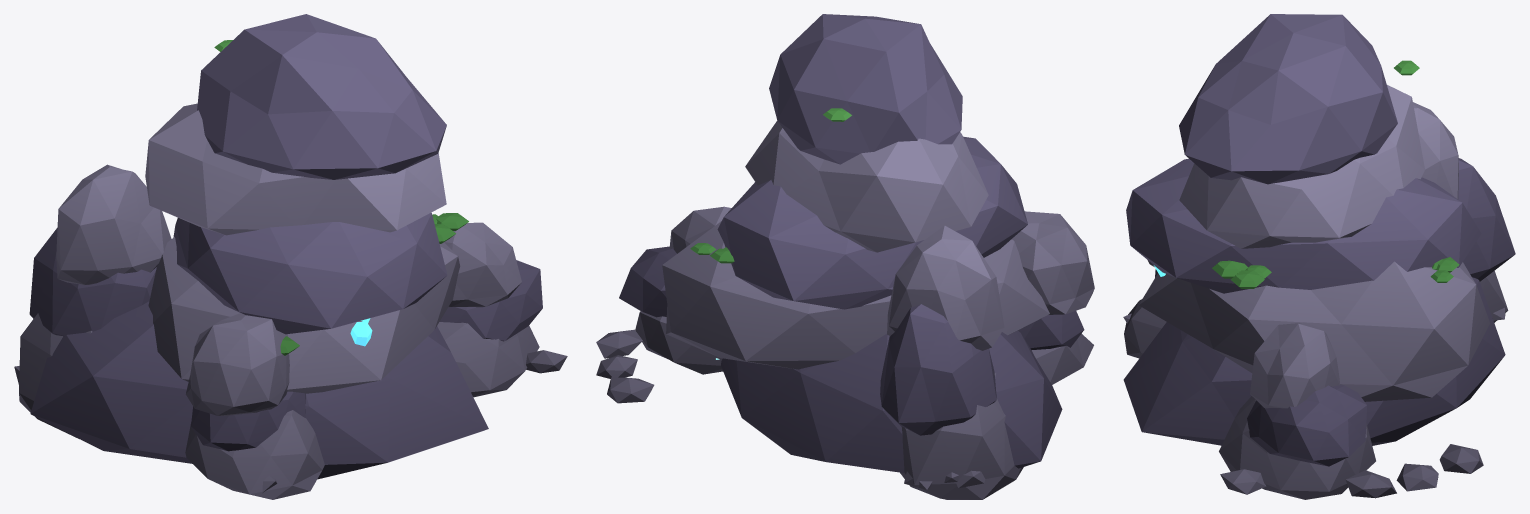
File: cliff_c.glb
3 views of the same model, side by side, from view 1: azimuth 30°, elevation 25°; view 2: azimuth 150°, elevation 25°; view 3: azimuth 270°, elevation 25° (orthographic). The views are drawn at different scales.
Parts seen in each view (by area): view 1: t0_rock, t0_rock_light, t0_moss; view 2: t0_rock, t0_rock_light, t0_moss; view 3: t0_rock, t0_rock_light, t0_moss.
Part boxes in pixels (x1,y1,x2,y2): t0_rock: (29, 14, 542, 479); t0_rock_light: (14, 103, 567, 499); t0_moss: (214, 40, 468, 355); t0_rock: (619, 14, 1084, 472); t0_rock_light: (596, 121, 1094, 499); t0_moss: (690, 108, 851, 263); t0_rock: (1123, 14, 1515, 466); t0_rock_light: (1123, 85, 1508, 499); t0_moss: (1212, 60, 1459, 288).
Size of the model in its own units: 5.17 by 4.22 by 3.84.
